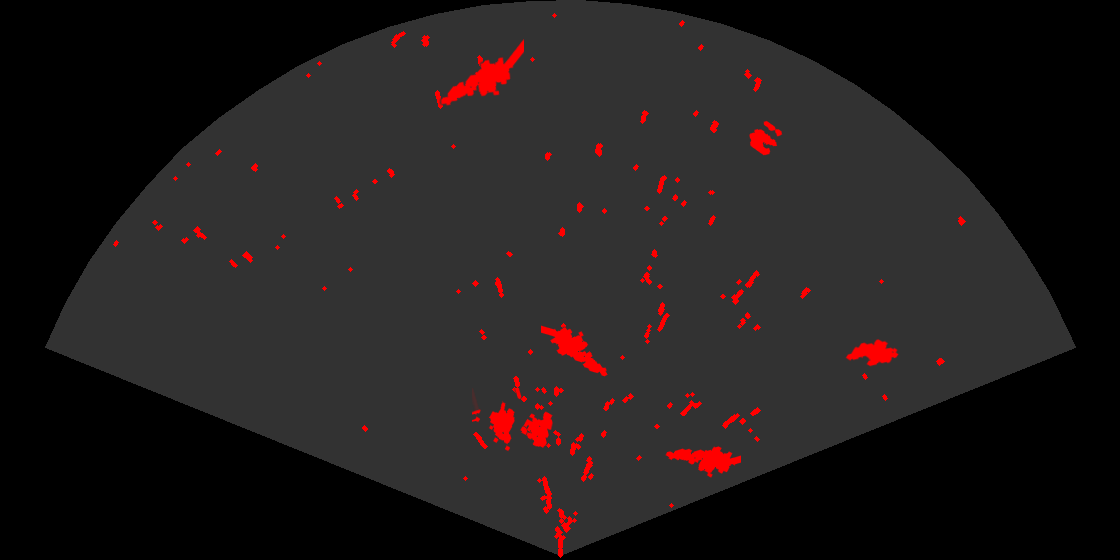AUV: (844, 338, 900, 368)
ball: (748, 119, 784, 157)
cage: (472, 388, 554, 453)
frogman: (439, 39, 524, 107), (541, 324, 609, 378), (664, 445, 741, 479)
